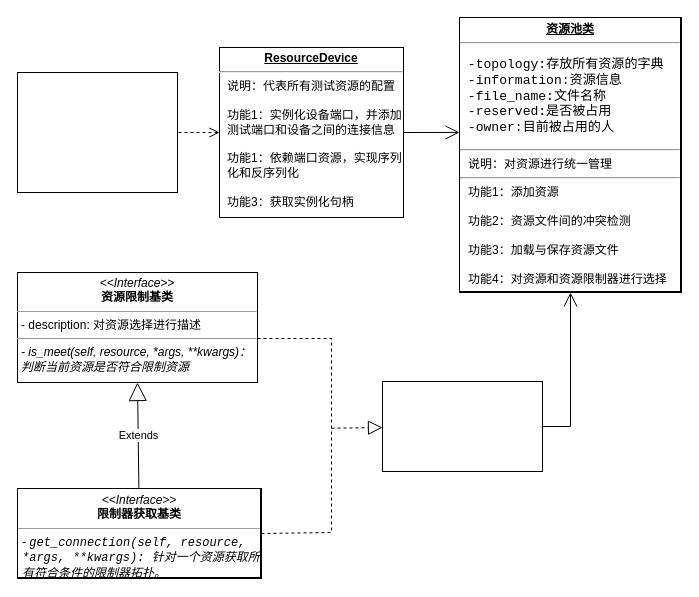
Some shapes in this 699 by 597 pixel diagram are drawn without their labels. The shapes that lost their labels are listed below. From the top down, each one's box as (x1, y1, x2, y2) in pixels, then its label:
(16, 72, 178, 192): DevicePort 说明：代表设备的连接湍口 功能1： 实现序列化和反序列化 功能2：获取实例化句柄
(382, 380, 542, 472): 资源限制器 说明：在选择测试资源前，对测试资源进行约束，选择符合条件的资源。框架内尚未具体实现
